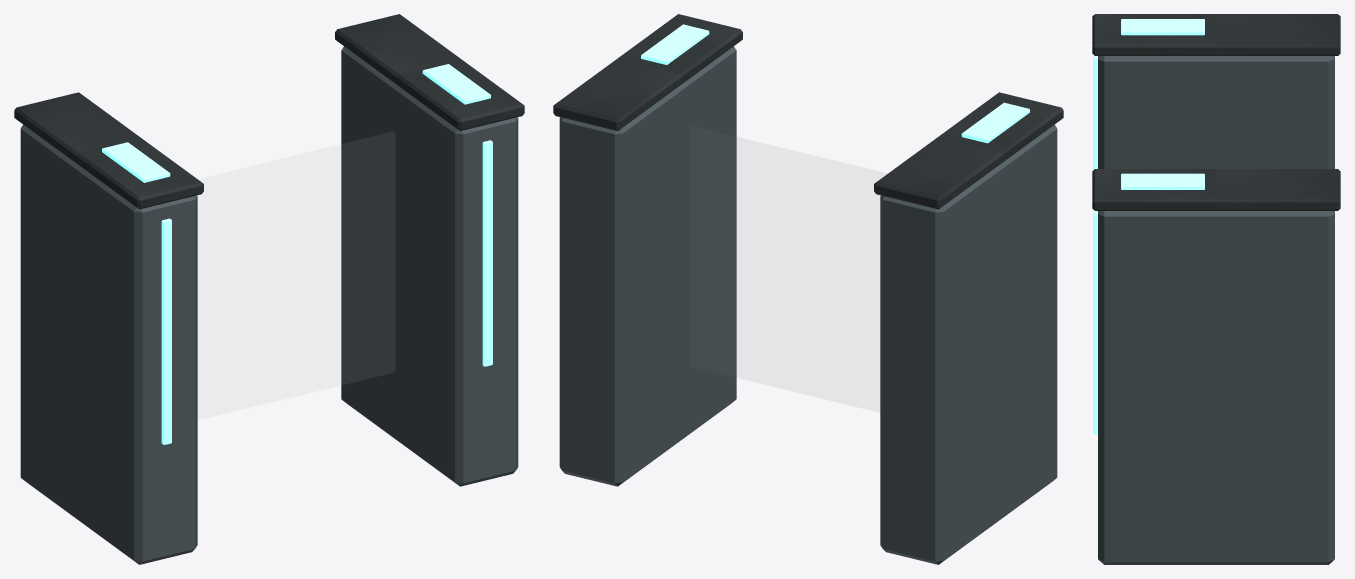
File: AccessGate.glb
The picture shows the model from 3 angles, left to right: view 1: azimuth 30°, elevation 25°; view 2: azimuth 150°, elevation 25°; view 3: azimuth 270°, elevation 25°; orthographic projection.
Visible parts, largest first — view 1: AccessGate__BlackenedSteel__mesh, AccessGate__Powdercoat__mesh, AccessGate__DGGreen__mesh; view 2: AccessGate__BlackenedSteel__mesh, AccessGate__Powdercoat__mesh, AccessGate__DGGreen__mesh; view 3: AccessGate__BlackenedSteel__mesh, AccessGate__Powdercoat__mesh, AccessGate__DGGreen__mesh.
Part boxes in pixels (x1,y1,x2,y2): AccessGate__BlackenedSteel__mesh: (20,46,518,564); AccessGate__Powdercoat__mesh: (14,14,524,209); AccessGate__DGGreen__mesh: (102,64,492,444); AccessGate__BlackenedSteel__mesh: (559,46,1057,564); AccessGate__Powdercoat__mesh: (553,14,1063,209); AccessGate__DGGreen__mesh: (641,24,1029,143); AccessGate__BlackenedSteel__mesh: (1098,56,1334,564); AccessGate__Powdercoat__mesh: (1092,14,1340,210); AccessGate__DGGreen__mesh: (1093,19,1204,434).
Size of the model in its own units: 1.16 by 1.08 by 0.65.
Materials: 4 (1 with a texture image).
